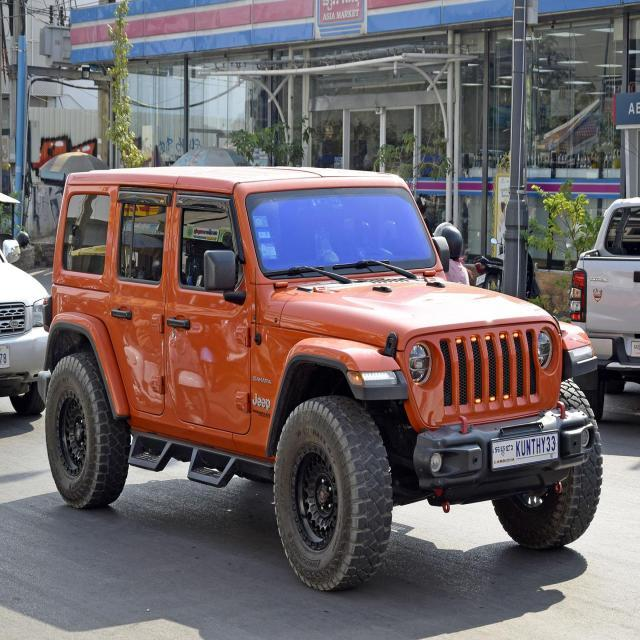Cambodia: (494, 442, 513, 458)
